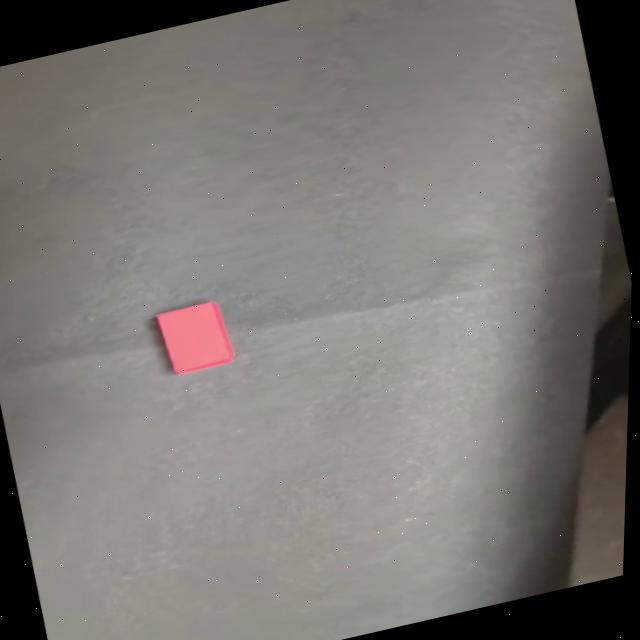red block: (149, 296, 235, 377)
